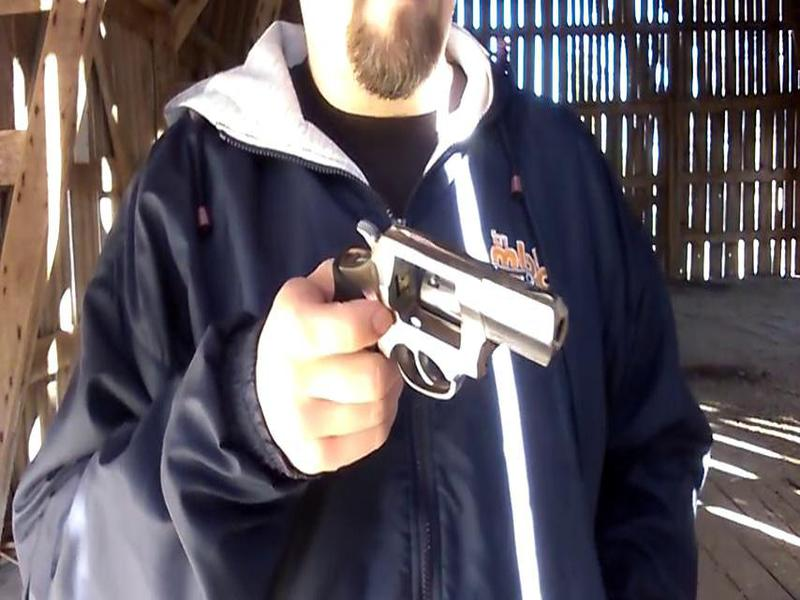Revolver: (289, 203, 588, 439)
